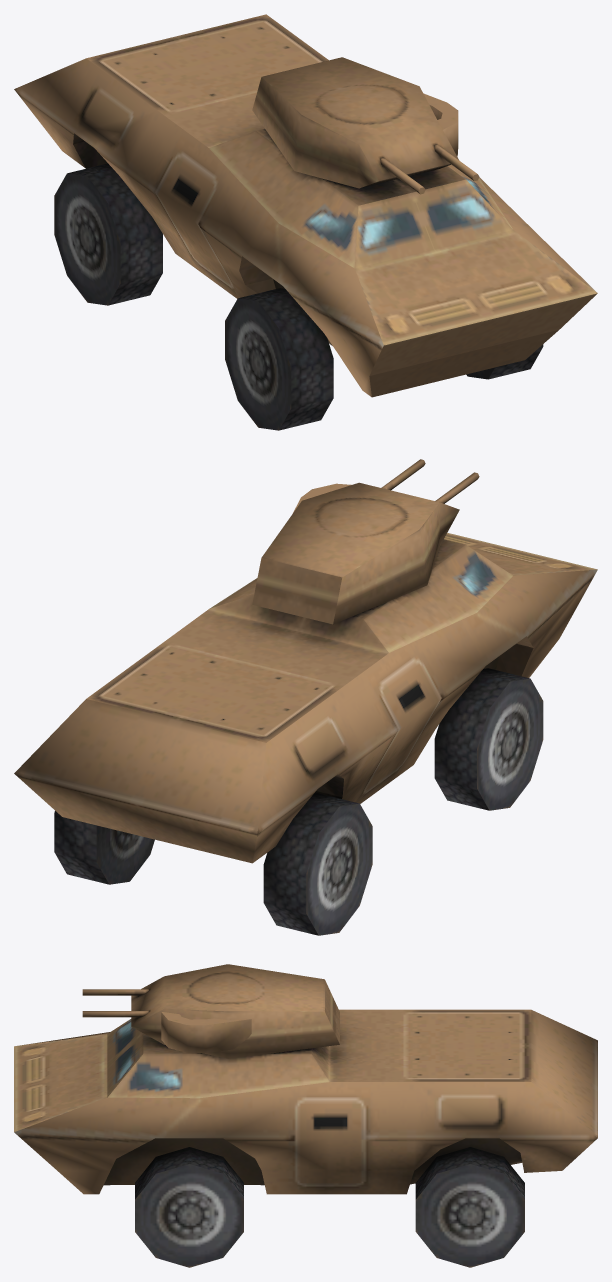
The model's file is M1117_ArmoredSecurityVehicle.DAE.
The picture shows the model from 3 angles, top to bottom: view 1: azimuth 30°, elevation 25°; view 2: azimuth 150°, elevation 25°; view 3: azimuth 270°, elevation 25°; orthographic projection. The views are drawn at different scales.
Parts seen in each view (by area): view 1: _1466_Knight; view 2: _1466_Knight; view 3: _1466_Knight.
Boxes of the visible parts, x1,y1,x2,y2 form: _1466_Knight: [14, 14, 597, 430]; _1466_Knight: [14, 459, 597, 935]; _1466_Knight: [14, 964, 597, 1267].
Bounding box in the file's own units: 99.1 × 105 × 242.
Materials: 1 (1 with a texture image).
